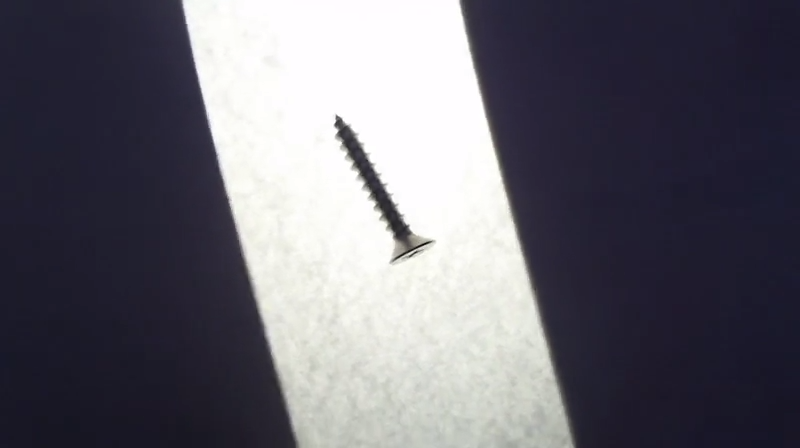S001: (329, 112, 439, 271)
